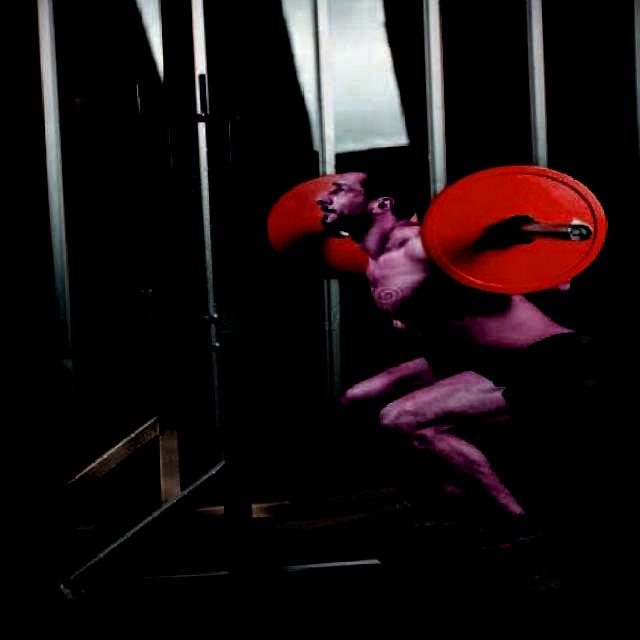barbell: (419, 163, 607, 303)
